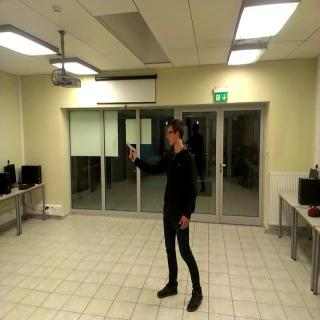gun: (125, 141, 137, 160)
